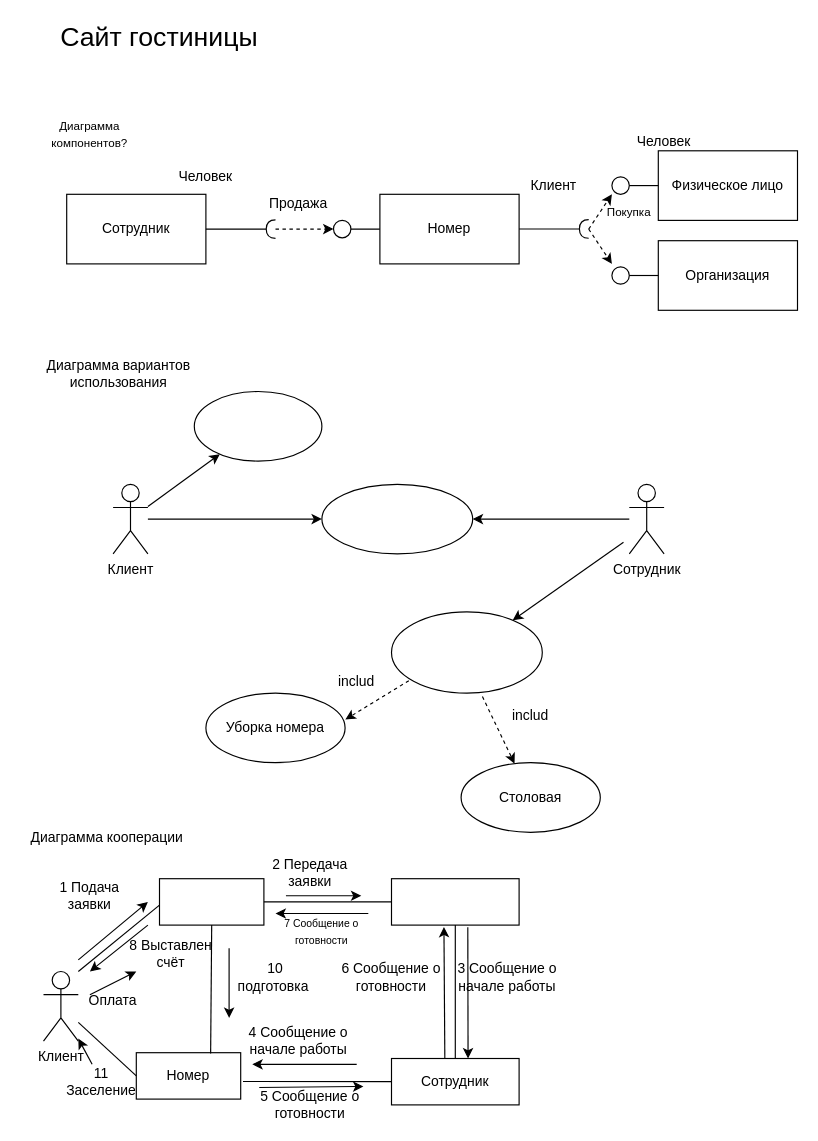
This 818x1141 diagram has some shape labels left out. The shapes that lost their labels are listed below. From the top down, each one's box as (x1, y1, x2, y2) in pixels, then its label:
(193, 390, 322, 461): Оплата номера
(321, 483, 473, 554): Оформление номера
(390, 611, 542, 693): Поиск услуг
(158, 878, 264, 925): Регистратура
(390, 878, 519, 925): Администратор
